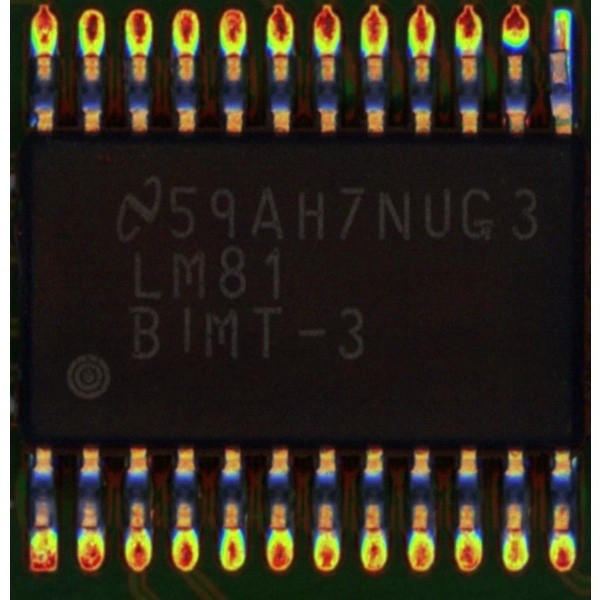Bad_podu: (553, 32, 566, 68)
Bad_qiaojiao: (565, 51, 571, 87)
